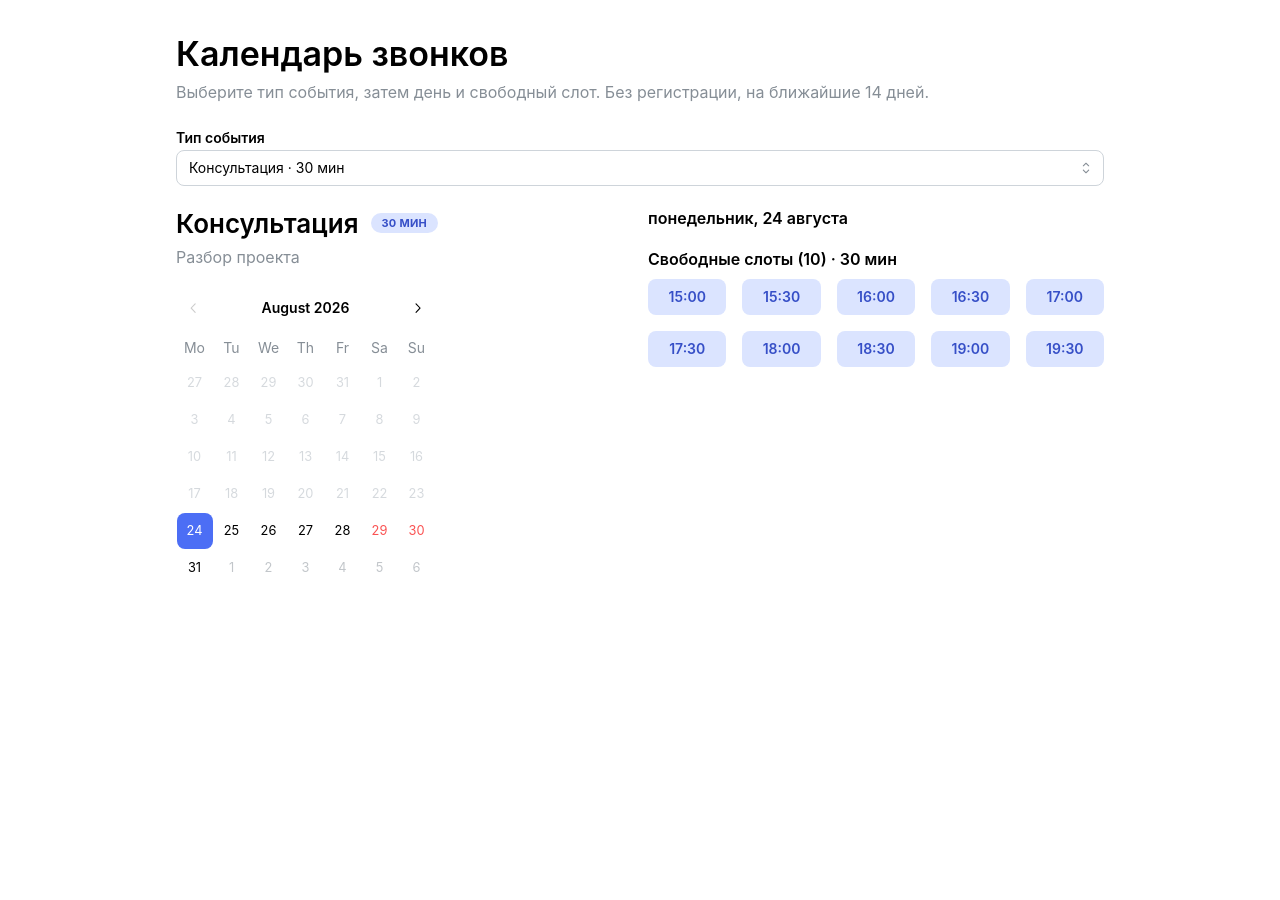
Scenario: BookingPage (гость: тип события → календарь → слоты) › проверка доступности свободного слота возвращает «Слот доступен»
This screenshot has width=1280, height=900.
expect the heading "Консультация" is shown: met, box [176,206,358,241]
Click the button named "2026-08-25". click: coordinates (232, 531)
box: [214,513,250,549]
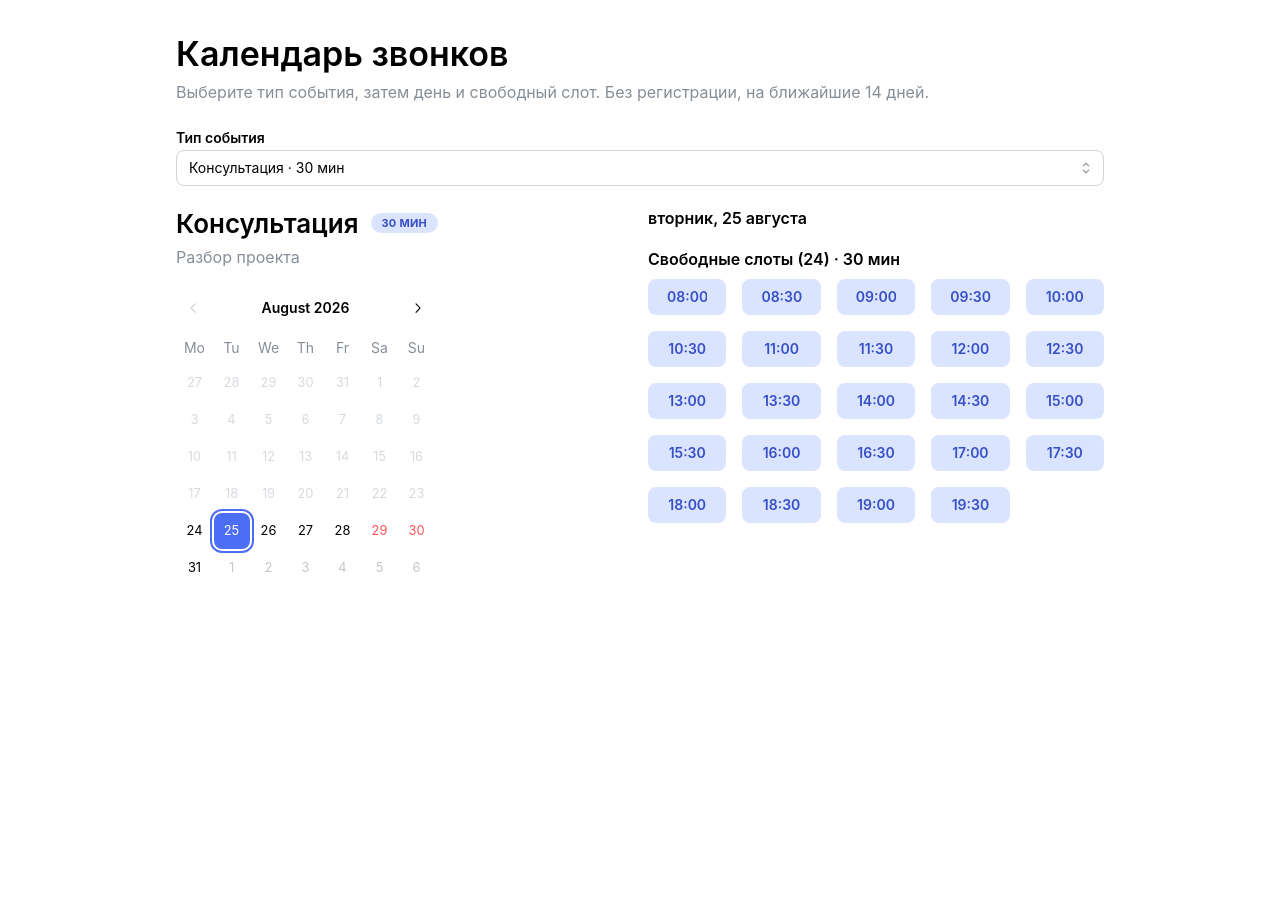
expect the text "Свободные слоты (24) · 30 мин" is shown: met, box [648,249,900,269]
Click the button "08:00". click: coordinates (687, 297)
box: [648,279,726,315]
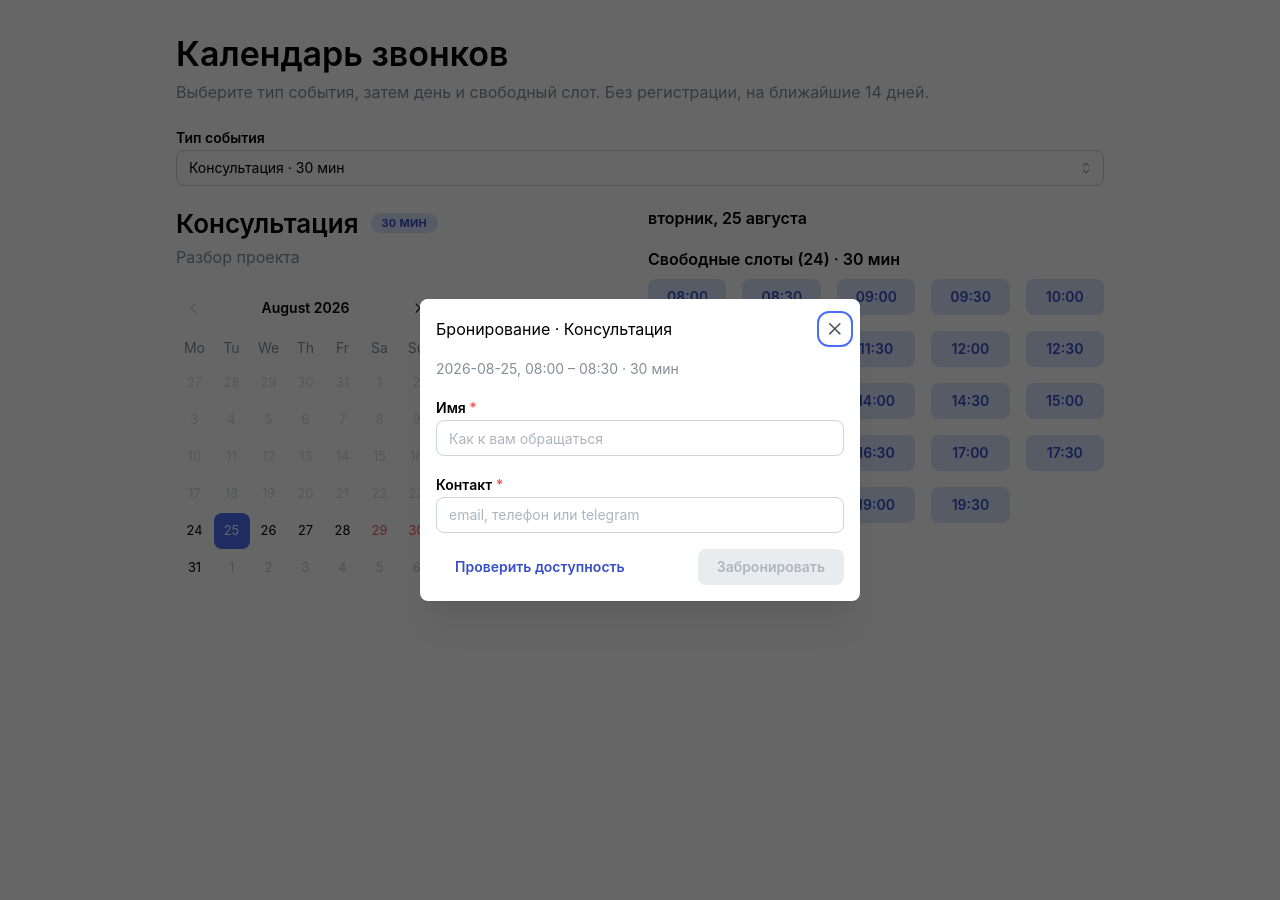
expect the field labelled "Имя *" is shown: met, box [436,420,844,456]
Click the button "Проверить доступность". click: coordinates (540, 567)
box: [436,549,644,585]
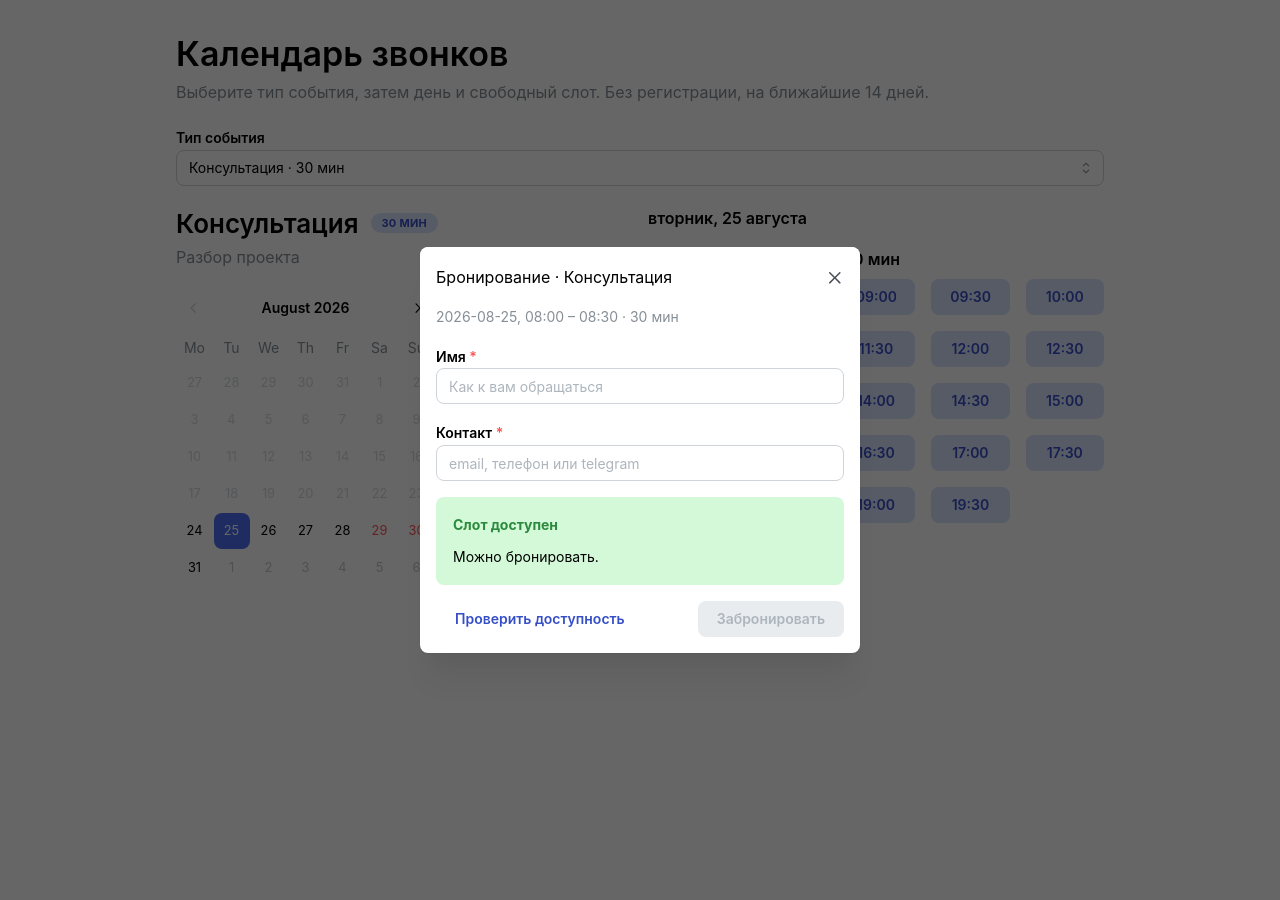
expect the text "Слот доступен" is shown: met, box [453,514,558,536]
